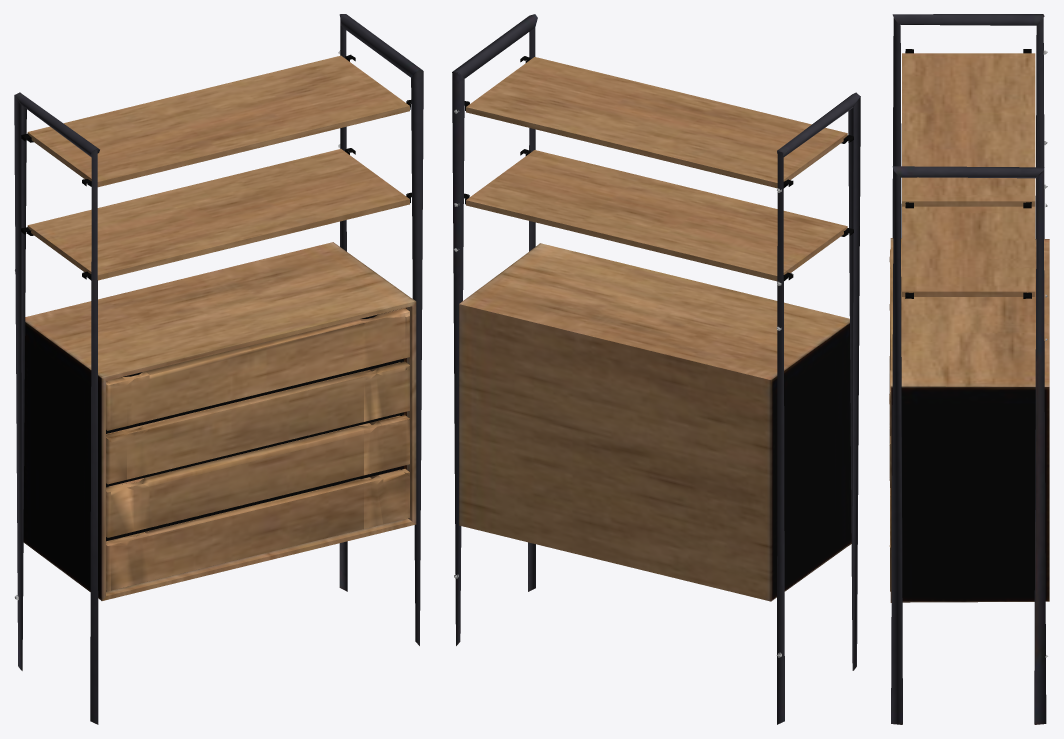
The model's file is drawer_cabinet.glb.
3 renders of one model, left to right at view 1: azimuth 30°, elevation 25°; view 2: azimuth 150°, elevation 25°; view 3: azimuth 270°, elevation 25°, orthographic. The views are drawn at different scales.
Visible parts, largest first — view 1: CC0_drawer_cabinet; view 2: CC0_drawer_cabinet; view 3: CC0_drawer_cabinet.
Boxes of the visible parts, x1=… form: CC0_drawer_cabinet: x1=14, y1=14, x2=423, y2=724; CC0_drawer_cabinet: x1=452, y1=14, x2=860, y2=724; CC0_drawer_cabinet: x1=889, y1=14, x2=1049, y2=724.
Size of the model in its own units: 1.13 by 1.88 by 0.4901.
Materials: 1 (1 with a texture image).
